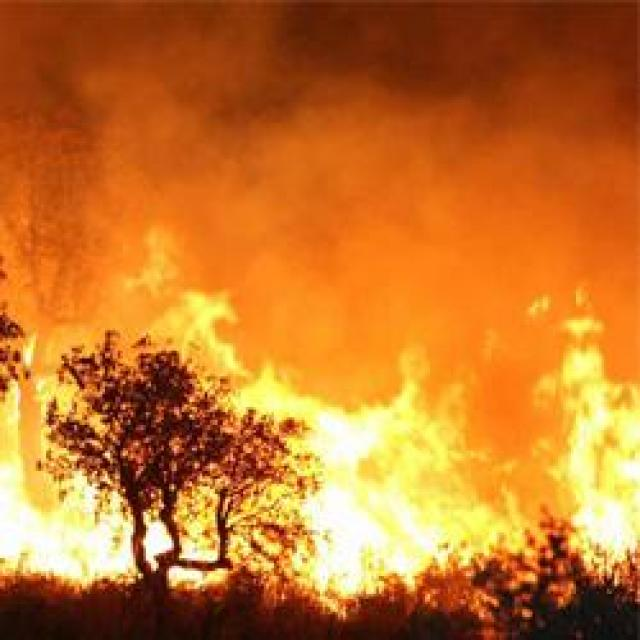fire: (301, 384, 473, 579), (573, 348, 640, 571), (4, 492, 111, 584), (167, 286, 240, 371)
smoke: (446, 59, 630, 294), (252, 66, 441, 257), (78, 1, 282, 145)
